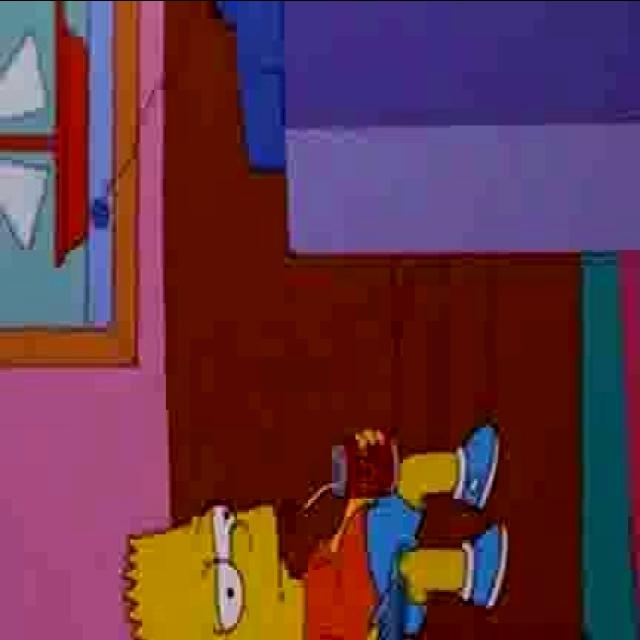Bart Simpson: (123, 502, 304, 636)
